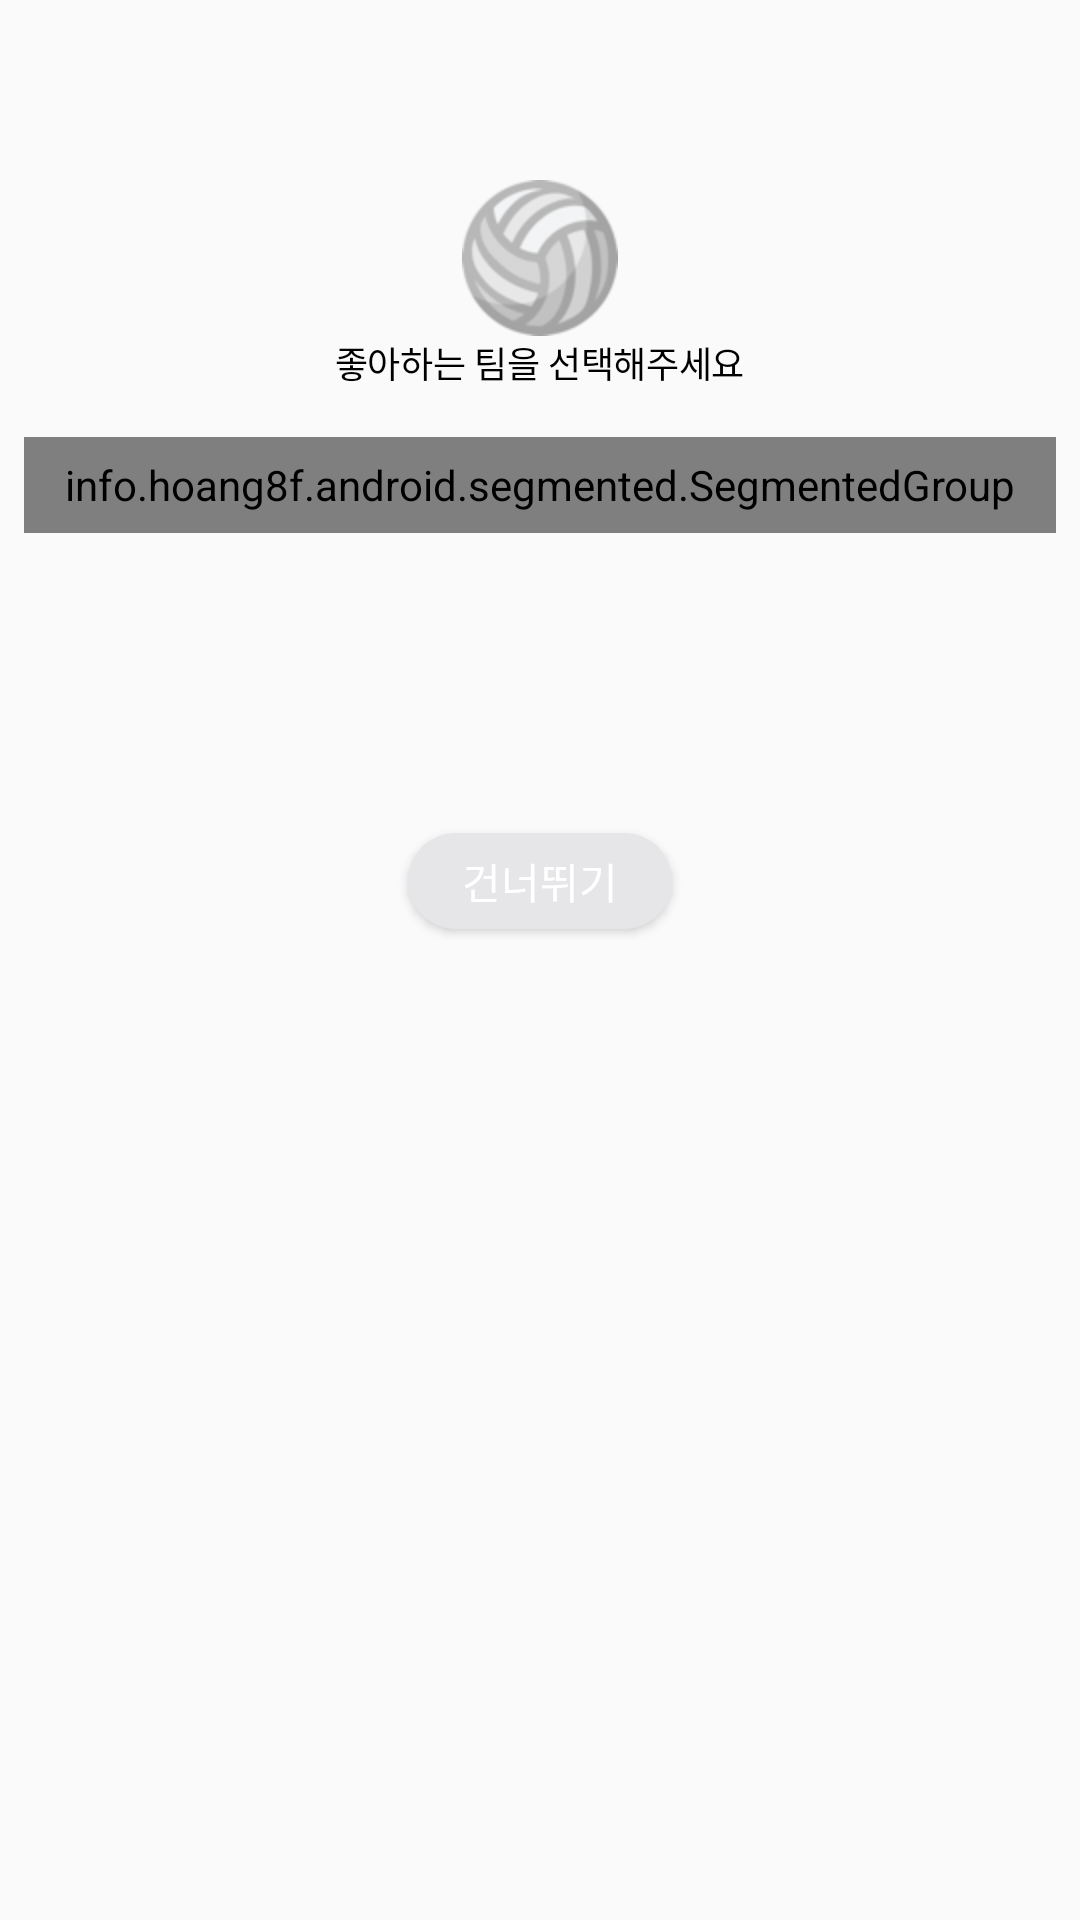

Where icons sit on this 1080w x 1920h app screen, as (x1=x1, y1=y1, x2=x2, y2=y2):
volleyball: (x1=462, y1=180, x2=618, y2=336)
